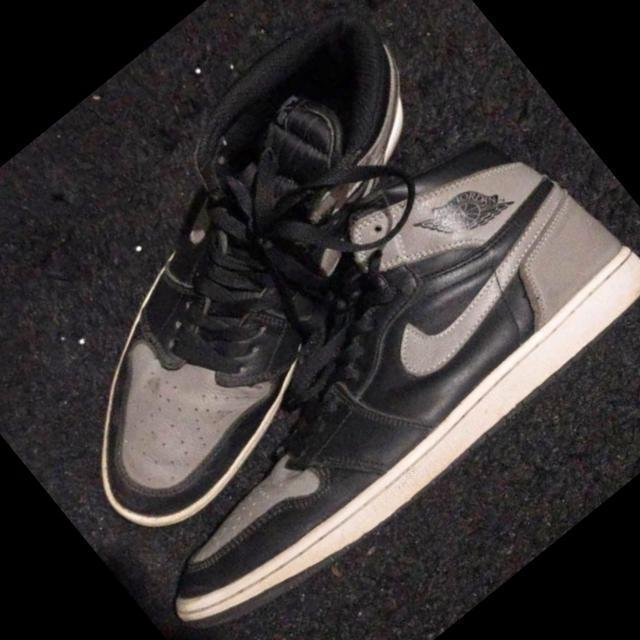nike fake jordan 1: (41, 81, 640, 640), (0, 0, 550, 557)
